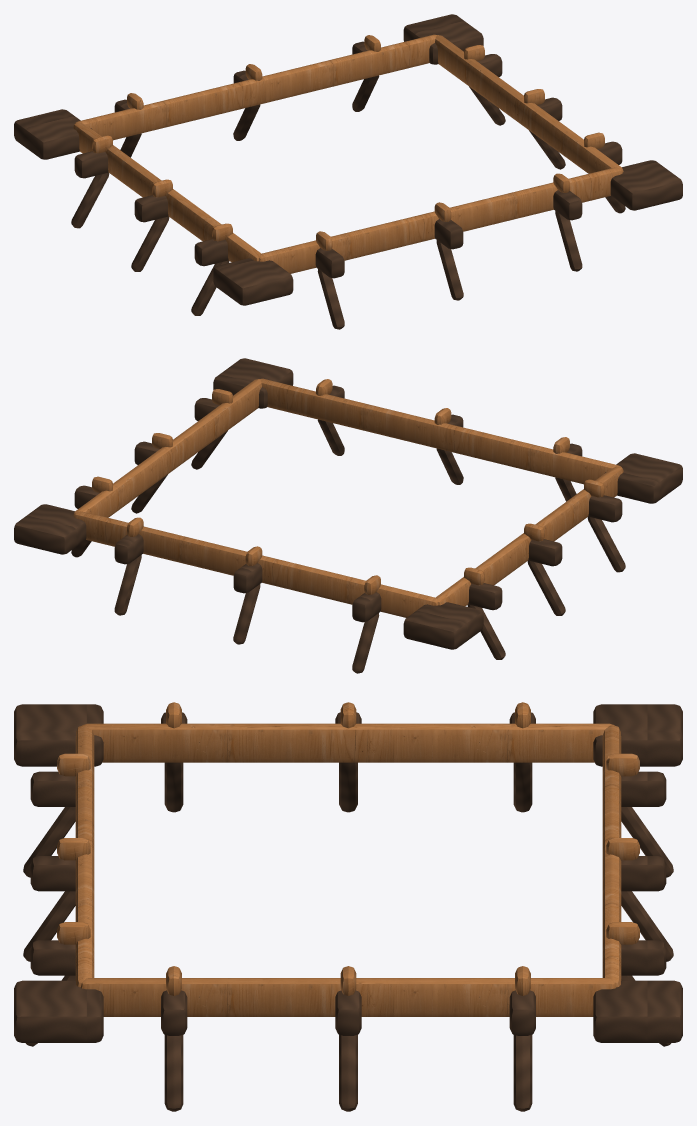
File: wall_jetty_skirt.glb
The picture shows the model from 3 angles, top to bottom: view 1: azimuth 30°, elevation 25°; view 2: azimuth 150°, elevation 25°; view 3: azimuth 270°, elevation 25°; orthographic projection. The views are drawn at different scales.
Parts seen in each view (by area): view 1: wall_jetty_skirt_0; view 2: wall_jetty_skirt_0; view 3: wall_jetty_skirt_0.
Boxes of the visible parts, x1,y1,x2,y2 form: wall_jetty_skirt_0: (14,14,682,329); wall_jetty_skirt_0: (14,358,682,673); wall_jetty_skirt_0: (14,702,682,1111).
Size of the model in its own units: 3.98 by 0.727 by 3.58.
Materials: 2 (2 with a texture image).
